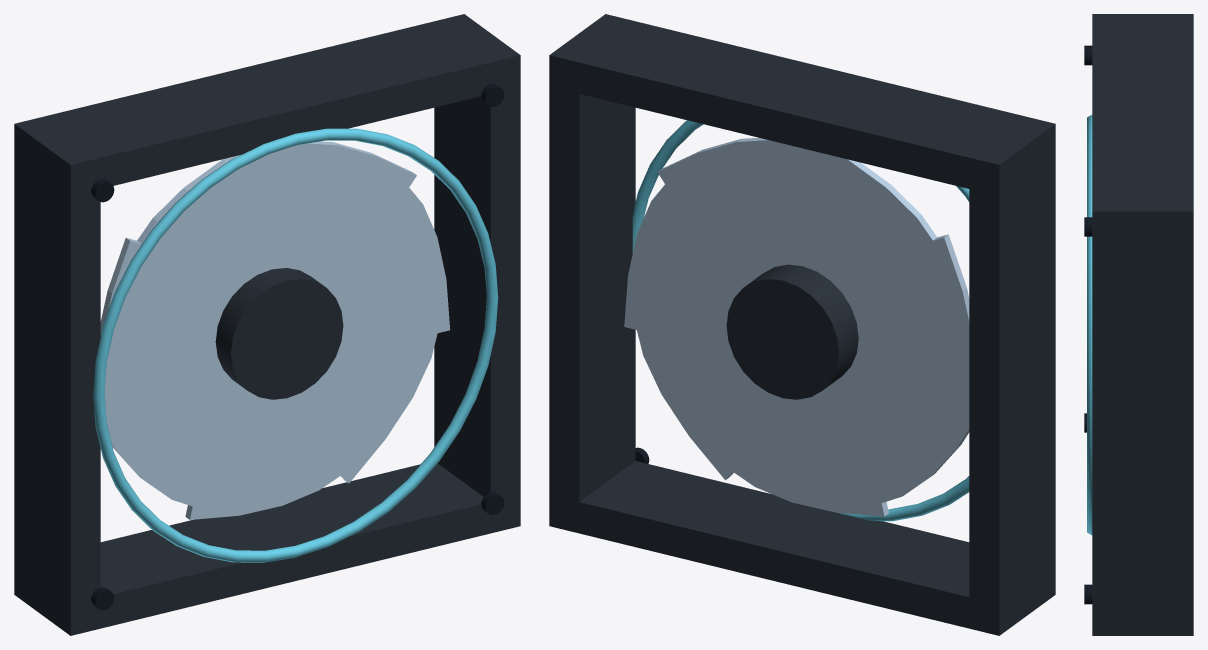
File: retail-nzxt-f120-rgb-core-black.glb
The picture shows the model from 3 angles, left to right: view 1: azimuth 30°, elevation 25°; view 2: azimuth 150°, elevation 25°; view 3: azimuth 270°, elevation 25°; orthographic projection. The views are drawn at different scales.
Visible parts, largest first — view 1: Frame edge (×4), Blade (×7), Intake rim, Motor hub; view 2: Frame edge (×4), Blade (×7), Motor hub, Intake rim; view 3: Frame edge (×3), Intake rim, Mounting recess (×3).
Part boxes in pixels (x1,y1,x2,y2): Frame edge (×4): [14, 14, 520, 635]; Blade (×7): [100, 141, 449, 519]; Intake rim: [93, 128, 498, 562]; Motor hub: [215, 268, 343, 399]; Frame edge (×4): [549, 14, 1055, 635]; Blade (×7): [624, 137, 969, 516]; Motor hub: [726, 264, 858, 399]; Intake rim: [632, 120, 969, 521]; Frame edge (×3): [1092, 14, 1193, 635]; Intake rim: [1087, 115, 1092, 534]; Mounting recess (×3): [1084, 45, 1092, 604].
Bounding box in the file's own units: 0.12 × 0.12 × 0.028.
